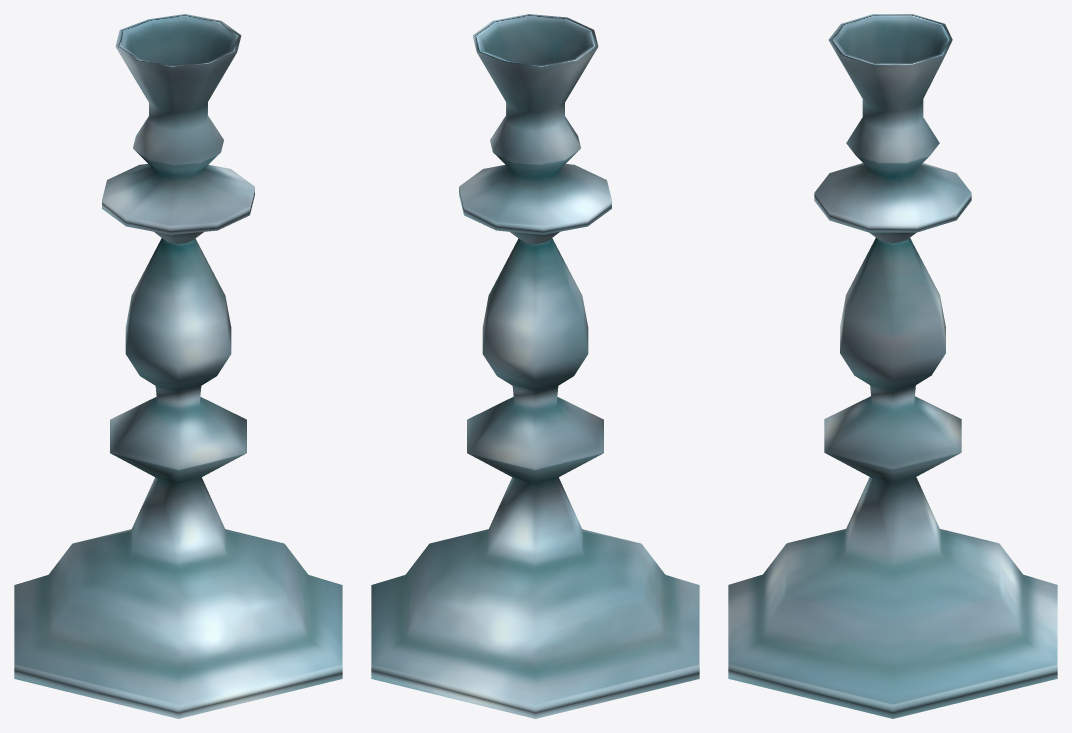
File: candelabrum_03.fbx
The picture shows the model from 3 angles, left to right: view 1: azimuth 30°, elevation 25°; view 2: azimuth 150°, elevation 25°; view 3: azimuth 270°, elevation 25°; orthographic projection.
Parts seen in each view (by area): view 1: candelabrum_03; view 2: candelabrum_03; view 3: candelabrum_03.
Part boxes in pixels (x1=…): candelabrum_03: x1=14, y1=14, x2=342, y2=718; candelabrum_03: x1=371, y1=14, x2=699, y2=718; candelabrum_03: x1=728, y1=14, x2=1057, y2=718.
Size of the model in its own units: 11.52 by 20.02 by 9.97.
